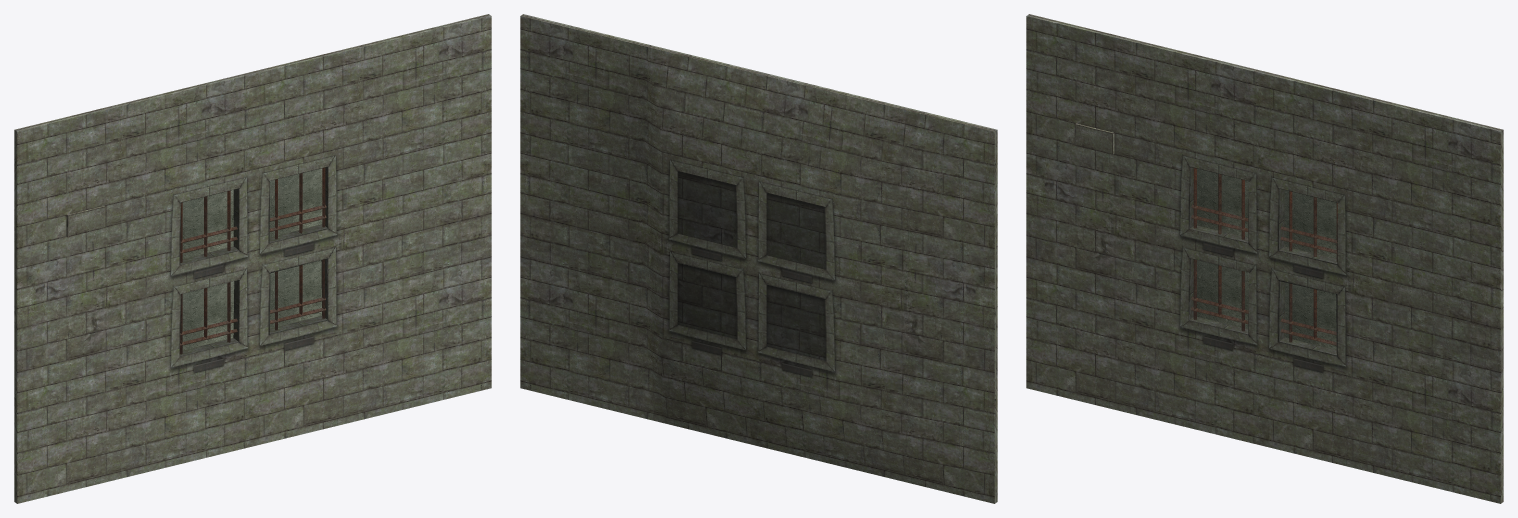
File: walltombs.fbx
3 views of the same model, side by side, from view 1: azimuth 30°, elevation 25°; view 2: azimuth 150°, elevation 25°; view 3: azimuth 330°, elevation 25° (orthographic).
Parts seen in each view (by area): view 1: Mesh Object; view 2: Mesh Object; view 3: Mesh Object.
Part boxes in pixels (box(x1,y1,x2,y2)): Mesh Object: box(14, 14, 491, 503); Mesh Object: box(520, 14, 997, 503); Mesh Object: box(1026, 14, 1503, 503).
Bounding box in the file's own units: 4 × 3 × 0.1458.
